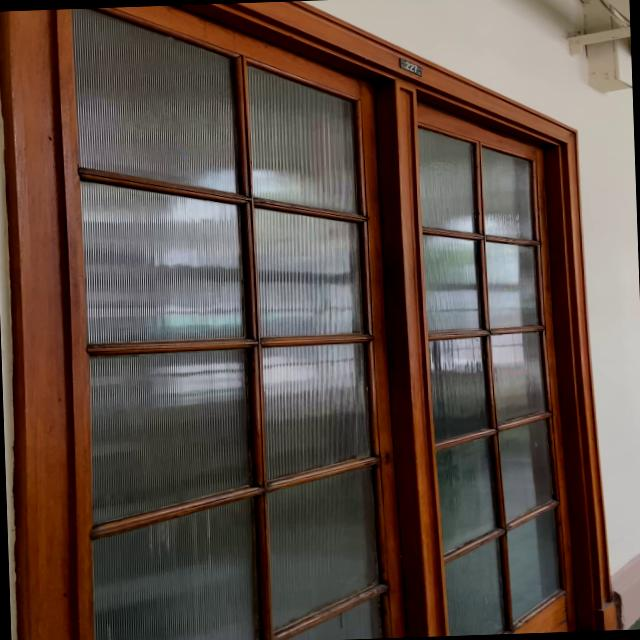room227: (396, 54, 423, 78)
